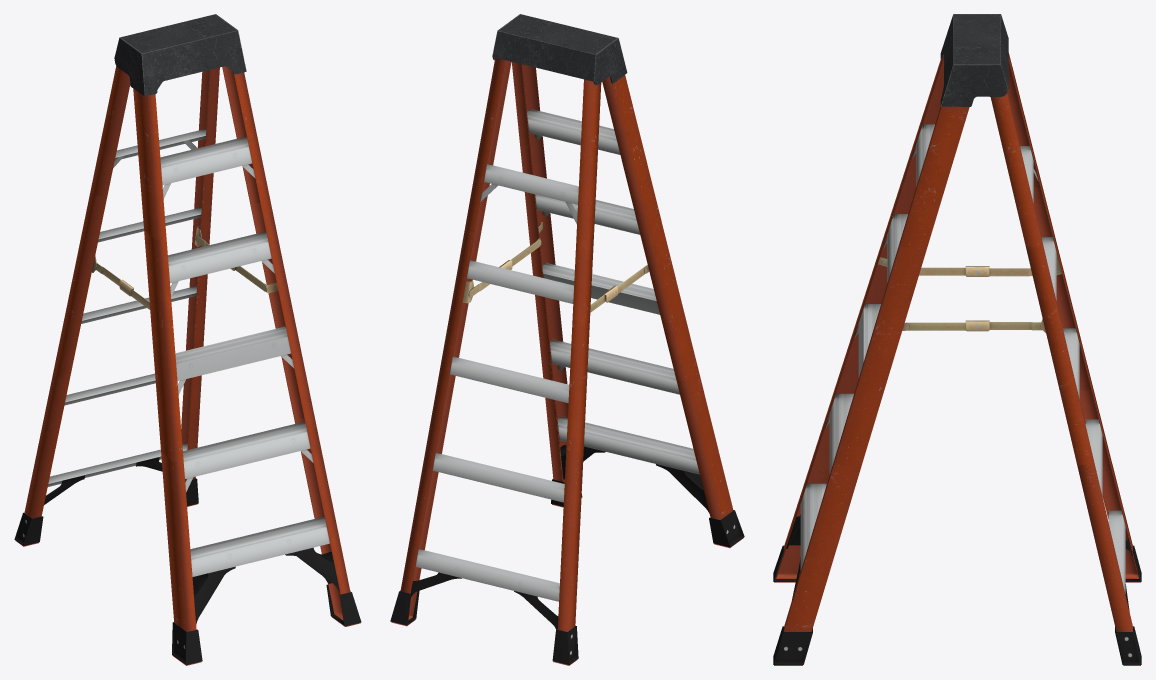
Rendered from CR_Ladder1.fbx.
3 renders of one model, left to right at view 1: azimuth 30°, elevation 25°; view 2: azimuth 150°, elevation 25°; view 3: azimuth 270°, elevation 25°, orthographic. The views are drawn at different scales.
Parts seen in each view (by area): view 1: Ladder1; view 2: Ladder1; view 3: Ladder1.
Boxes of the visible parts, x1,y1,x2,y2 form: Ladder1: (14,14,361,665); Ladder1: (390,14,744,665); Ladder1: (773,14,1141,665).
Size of the model in its own units: 62.2 by 183 by 105.
